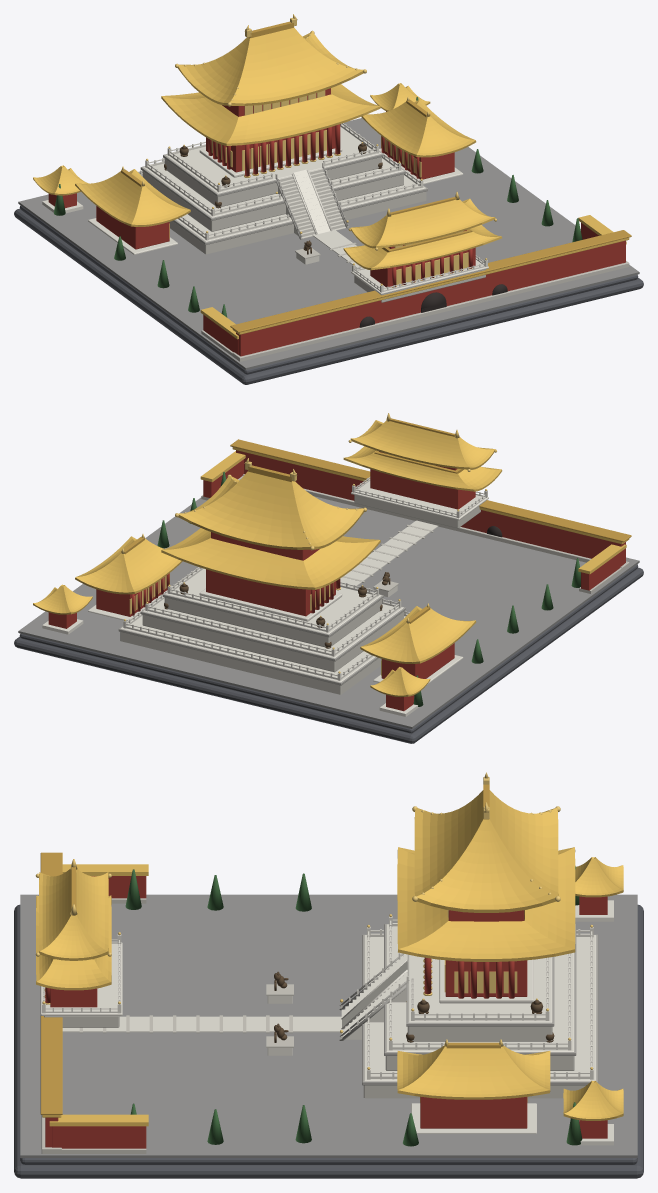
Rendered from forbidden-city.glb.
3 renders of one model, top to bottom at view 1: azimuth 30°, elevation 25°; view 2: azimuth 150°, elevation 25°; view 3: azimuth 270°, elevation 25°, orthographic. The views are drawn at different scales.
Visible parts, largest first — view 1: StonePaving, ImperialRoofs, MarbleWorks, VermilionPalace, DioramaBase, GildedDetails, GateLowerEave, CypressTrees; view 2: StonePaving, ImperialRoofs, MarbleWorks, VermilionPalace, DioramaBase, GateLowerEave, CypressTrees, GildedDetails; view 3: StonePaving, ImperialRoofs, MarbleWorks, DioramaBase, VermilionPalace, GateLowerEave, CypressTrees, GildedDetails, BronzeFurnishings.
Boxes of the visible parts, x1,y1,x2,y2 form: StonePaving: (18, 118, 639, 369); ImperialRoofs: (33, 21, 631, 339); MarbleWorks: (42, 123, 487, 292); VermilionPalace: (48, 88, 625, 356); DioramaBase: (14, 205, 643, 384); GildedDetails: (121, 14, 496, 287); GateLowerEave: (343, 225, 502, 270); CypressTrees: (54, 97, 582, 317); StonePaving: (18, 474, 639, 728); ImperialRoofs: (33, 418, 631, 697); MarbleWorks: (42, 477, 487, 716); VermilionPalace: (48, 450, 625, 711); DioramaBase: (14, 564, 643, 743); GateLowerEave: (343, 446, 502, 491); CypressTrees: (157, 472, 580, 706); GildedDetails: (121, 413, 496, 675); StonePaving: (20, 894, 637, 1157); ImperialRoofs: (39, 784, 623, 1126); MarbleWorks: (42, 900, 613, 1145); DioramaBase: (14, 904, 643, 1178); VermilionPalace: (45, 876, 607, 1148); GateLowerEave: (36, 895, 111, 990); CypressTrees: (125, 866, 582, 1146); GildedDetails: (35, 772, 560, 1102); BronzeFurnishings: (274, 971, 554, 1042).
Size of the model in its own units: 200 by 91.16 by 200.
